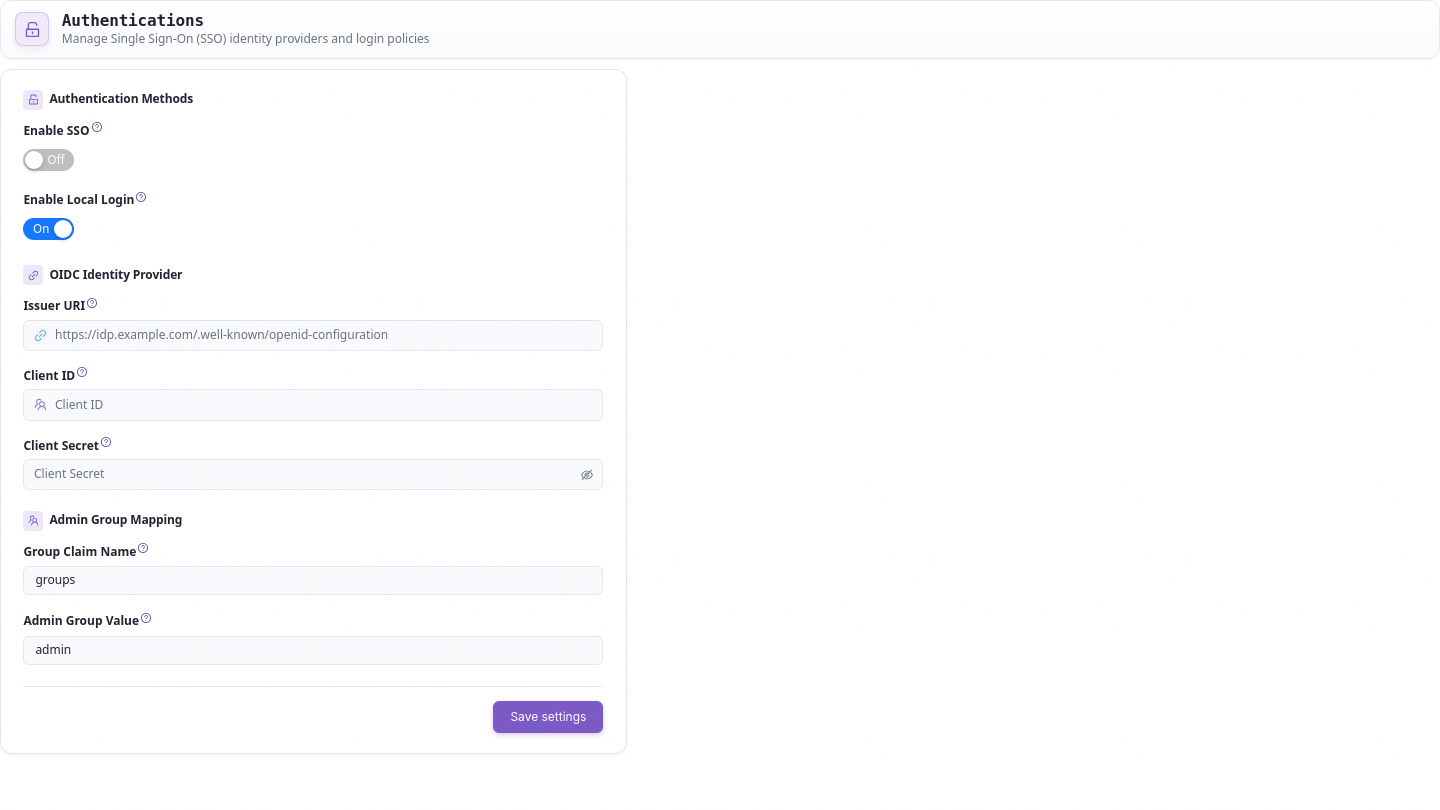
Test: AuthenticationsPage › shows save error when API rejects
This screenshot has width=1440, height=810.
Expected: the text "Enable SSO" is shown, [23, 123, 115, 138]
Click the button "Save settings".
click(548, 717)  # box [493, 701, 603, 733]
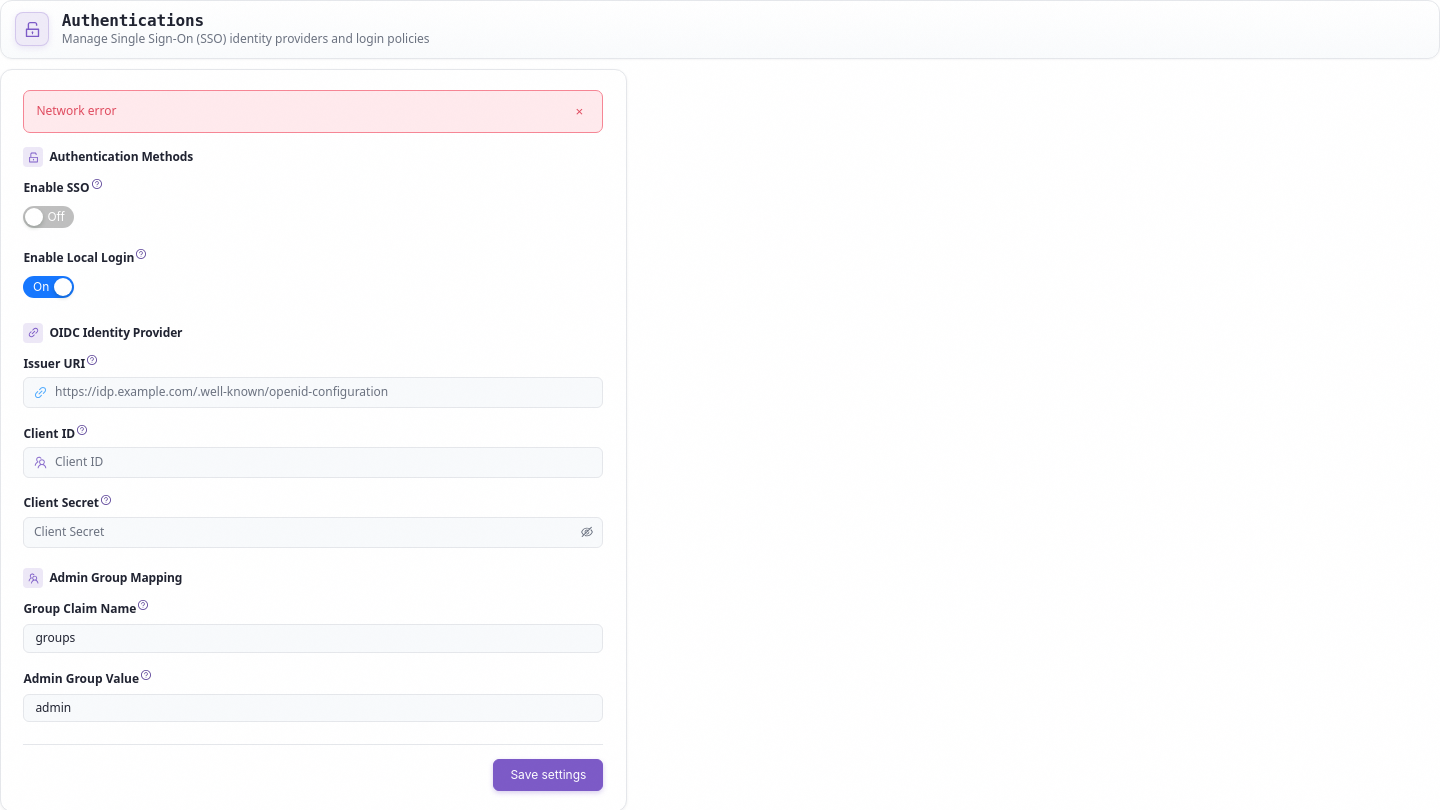
Expected: the message shows "Network error", [36, 102, 116, 119]
